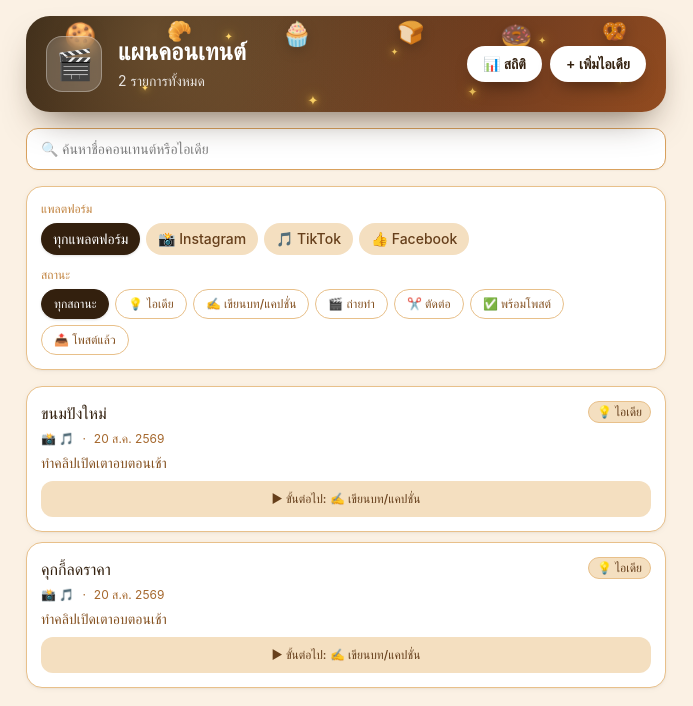
Test: ContentPlannerPage › ค้นหาจากชื่อคอนเทนต์ กรองรายการที่ไม่ตรงออกไป
Type "คุกกี้" into the field with placeholder "🔍 ค้นหาชื่อคอนเทนต์หรือไอเดีย" at [346, 149], box top-left (26, 128), bottom-right (666, 170)
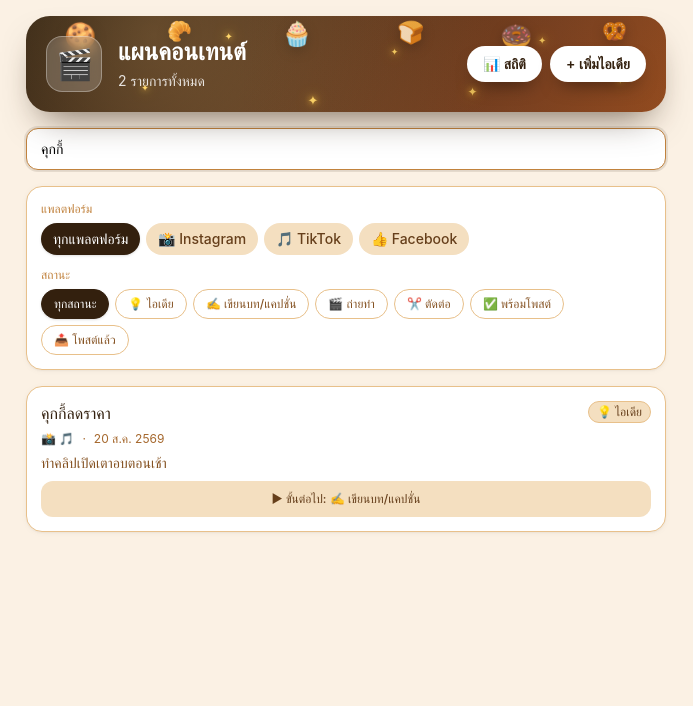
Expected: the text "คุกกี้ลดราคา" is shown, top-left (41, 401), bottom-right (111, 425)
Result: the link "ขนมปังใหม่" is gone
